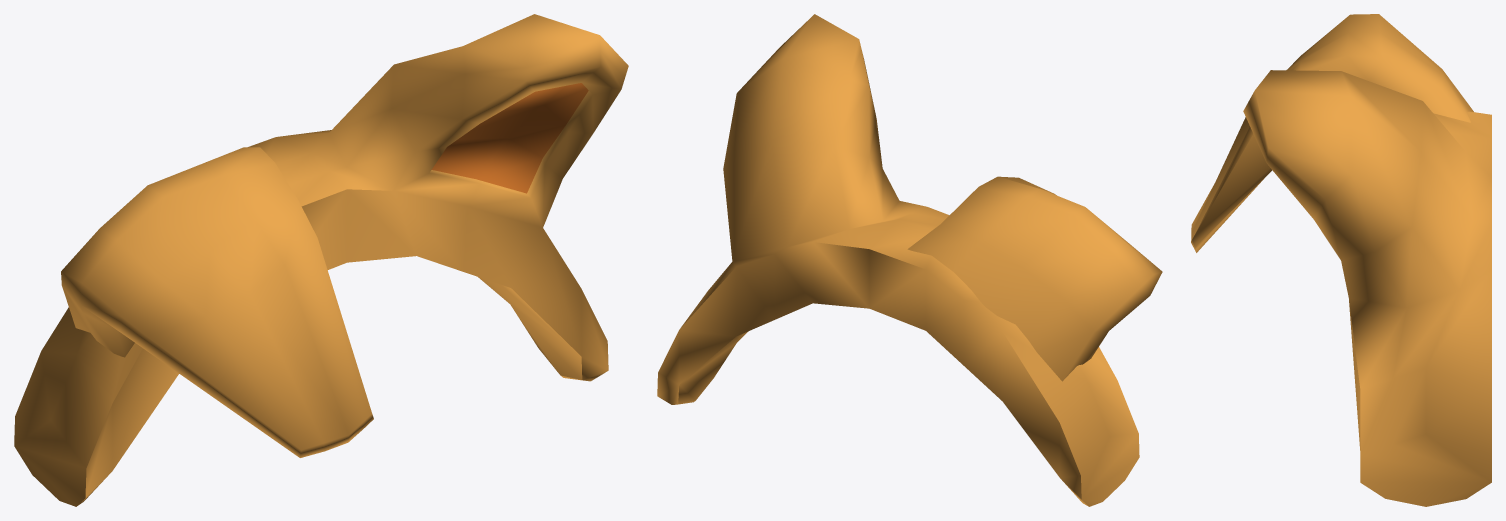
File: Hat_Dog.fbx
3 views of the same model, side by side, from view 1: azimuth 30°, elevation 25°; view 2: azimuth 150°, elevation 25°; view 3: azimuth 270°, elevation 25° (orthographic). The views are drawn at different scales.
Parts seen in each view (by area): view 1: DogHeadband, DogEars2; view 2: DogHeadband, DogEars2; view 3: DogHeadband, DogEars2.
Boxes of the visible parts, x1=… form: DogHeadband: x1=14, y1=14, x2=628, y2=506; DogEars2: x1=61, y1=147, x2=373, y2=457; DogHeadband: x1=657, y1=14, x2=1139, y2=506; DogEars2: x1=907, y1=176, x2=1162, y2=381; DogHeadband: x1=1243, y1=70, x2=1491, y2=506; DogEars2: x1=1191, y1=14, x2=1473, y2=252.
Size of the model in its own units: 104 by 78.37 by 54.57.
